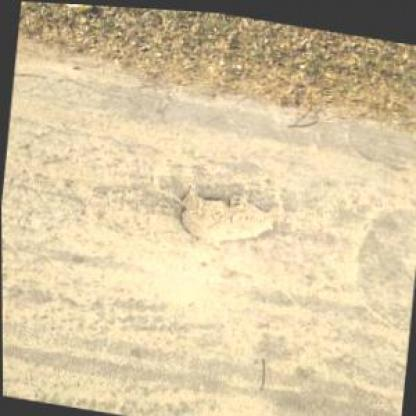pothole: (171, 176, 278, 248)
